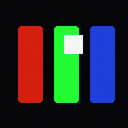1 square: (64, 35, 82, 53)
